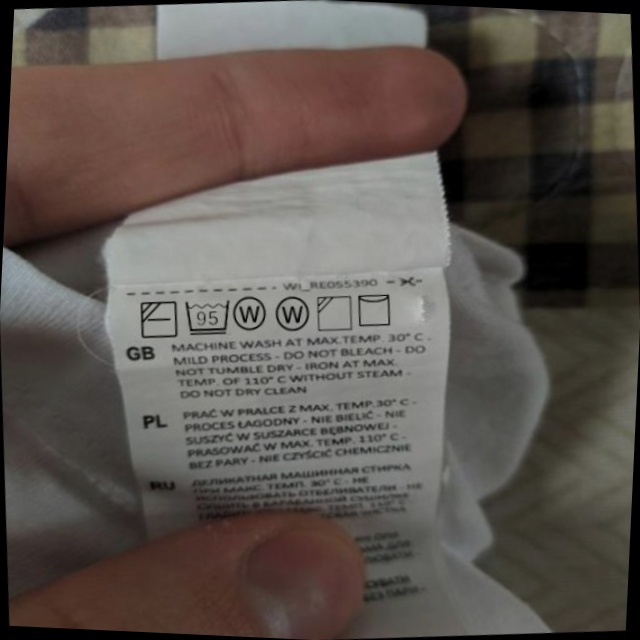95C: (181, 295, 234, 338)
dry_flat_in_shade: (136, 296, 180, 342)
line_dry: (353, 288, 397, 331)
shade_dry: (313, 291, 356, 335)
wet_clean: (272, 293, 313, 336), (231, 290, 271, 334)
